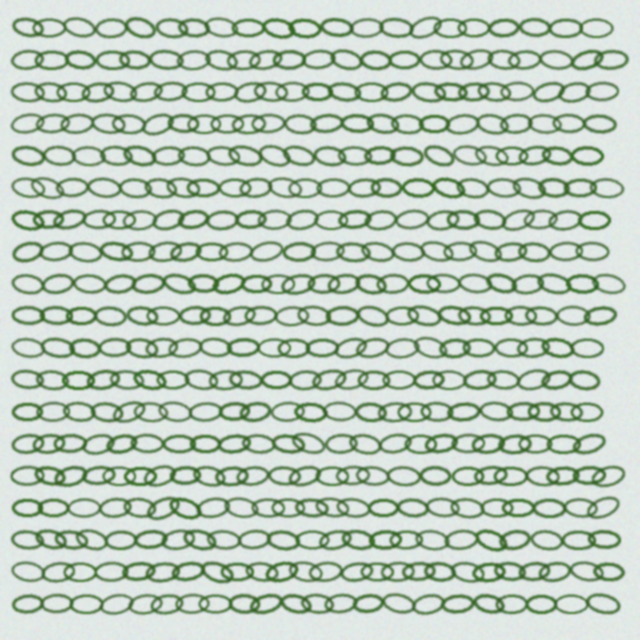chain: (143, 492, 183, 524), (406, 12, 445, 43), (584, 492, 623, 523), (28, 173, 67, 203), (499, 205, 538, 235), (139, 109, 177, 139), (420, 141, 458, 171), (110, 397, 148, 427), (166, 493, 204, 523), (472, 525, 510, 555), (198, 557, 236, 587), (411, 333, 450, 362), (289, 429, 328, 458), (466, 237, 504, 266), (141, 461, 179, 490), (589, 462, 628, 490), (122, 13, 159, 42), (256, 141, 293, 170), (568, 46, 606, 74), (530, 78, 568, 106), (280, 142, 318, 170), (510, 174, 548, 202), (160, 270, 198, 298), (354, 302, 392, 330), (332, 334, 370, 362), (570, 430, 608, 458), (286, 462, 324, 490), (247, 590, 285, 618), (52, 462, 89, 490), (226, 142, 264, 169), (535, 270, 573, 297), (405, 302, 443, 329), (310, 366, 348, 393), (584, 590, 622, 617), (61, 14, 98, 41), (328, 46, 365, 73), (458, 46, 495, 73), (121, 142, 158, 169), (430, 174, 467, 201), (51, 206, 88, 233), (150, 206, 187, 233), (248, 238, 285, 265), (418, 238, 455, 265), (210, 270, 247, 297), (483, 270, 520, 297), (333, 366, 370, 393), (515, 366, 552, 393), (73, 526, 110, 553), (181, 526, 218, 553), (263, 558, 300, 585), (380, 590, 417, 617), (279, 271, 317, 297), (10, 238, 46, 265), (33, 526, 69, 553), (260, 15, 297, 41), (203, 47, 240, 73), (247, 47, 284, 73), (128, 79, 165, 105), (556, 79, 593, 105), (474, 111, 511, 137), (473, 143, 510, 169), (9, 207, 46, 233), (359, 239, 396, 265), (590, 271, 627, 297), (221, 303, 258, 329), (354, 335, 391, 361), (80, 431, 117, 457), (317, 527, 354, 553), (449, 559, 486, 585), (98, 591, 135, 617), (410, 591, 447, 617), (266, 175, 304, 200), (232, 79, 268, 105), (168, 239, 204, 265), (353, 271, 389, 297), (539, 367, 575, 393), (104, 431, 140, 457), (347, 431, 383, 457), (32, 463, 68, 489), (191, 463, 227, 489), (278, 591, 314, 617), (471, 591, 507, 617), (9, 111, 46, 136), (451, 143, 488, 168), (284, 207, 321, 232), (39, 335, 76, 360), (539, 335, 576, 360), (131, 367, 168, 392), (377, 431, 414, 456), (223, 495, 260, 520), (287, 559, 324, 584), (568, 559, 605, 584), (10, 15, 46, 40), (203, 15, 239, 40), (102, 79, 138, 104), (365, 111, 401, 136), (10, 143, 46, 168), (517, 143, 553, 168), (10, 175, 46, 200), (165, 175, 201, 200), (472, 207, 508, 232), (98, 239, 134, 264), (147, 239, 183, 264), (40, 271, 76, 296), (326, 271, 362, 296), (436, 303, 472, 328), (85, 367, 121, 392), (183, 367, 219, 392), (157, 399, 193, 424), (423, 431, 459, 456), (195, 495, 231, 520), (314, 495, 350, 520), (160, 527, 196, 552), (340, 527, 376, 552), (497, 527, 533, 552), (10, 559, 46, 584), (170, 559, 206, 584), (537, 559, 573, 584), (538, 48, 575, 72), (410, 80, 447, 104), (444, 112, 481, 136), (547, 208, 584, 232), (67, 240, 104, 264), (167, 336, 204, 360), (384, 336, 421, 360), (335, 496, 372, 520), (449, 496, 486, 520), (414, 528, 451, 552), (144, 560, 181, 584), (127, 592, 164, 616), (176, 207, 211, 232), (238, 399, 273, 424), (154, 16, 190, 40), (80, 80, 116, 104), (326, 80, 362, 104), (476, 80, 512, 104), (205, 144, 241, 168), (312, 144, 348, 168), (425, 208, 461, 232), (493, 240, 529, 264), (10, 272, 46, 296), (582, 304, 618, 328), (10, 336, 46, 360), (124, 336, 160, 360), (89, 400, 125, 424), (216, 432, 252, 456), (270, 432, 306, 456), (235, 464, 271, 488), (53, 528, 89, 552), (265, 528, 301, 552), (529, 528, 565, 552), (40, 560, 76, 584), (244, 560, 280, 584), (339, 560, 375, 584), (149, 592, 185, 616), (90, 112, 127, 135), (86, 176, 123, 199), (443, 528, 480, 551), (63, 48, 98, 72), (33, 80, 68, 104), (379, 80, 414, 104), (540, 144, 575, 168), (143, 176, 178, 200), (455, 176, 490, 200), (363, 208, 398, 232), (103, 272, 138, 296), (510, 272, 545, 296), (125, 304, 160, 328), (567, 368, 602, 392), (378, 16, 414, 39), (148, 48, 184, 71), (486, 48, 522, 71), (253, 80, 289, 103), (35, 112, 71, 135), (59, 112, 95, 135), (238, 176, 274, 199), (394, 208, 430, 231), (38, 240, 74, 263), (130, 272, 166, 295), (457, 272, 493, 295), (296, 304, 332, 327), (478, 400, 514, 423), (10, 432, 46, 455), (31, 432, 67, 455), (470, 432, 506, 455), (323, 592, 359, 615), (319, 16, 354, 39), (10, 48, 45, 71), (301, 48, 336, 71), (439, 48, 474, 71), (153, 80, 188, 103), (309, 112, 344, 135), (42, 144, 77, 167), (337, 208, 372, 231), (523, 208, 558, 231), (310, 240, 345, 263), (144, 336, 179, 359), (198, 336, 233, 359), (516, 336, 551, 359), (10, 368, 45, 391), (462, 368, 497, 391), (81, 464, 116, 487), (473, 464, 508, 487), (122, 496, 157, 519), (425, 496, 460, 519), (133, 528, 168, 551), (237, 528, 272, 551), (121, 560, 156, 583), (308, 560, 343, 583), (517, 560, 552, 583), (300, 592, 335, 615), (351, 592, 386, 615), (111, 113, 147, 135), (231, 113, 267, 135), (337, 145, 373, 167), (486, 177, 522, 199), (589, 177, 625, 199), (122, 209, 158, 231), (218, 241, 254, 263), (335, 241, 371, 263), (274, 305, 310, 327), (109, 369, 145, 391), (133, 401, 169, 423), (377, 401, 413, 423), (386, 465, 422, 487), (206, 529, 242, 551), (499, 112, 533, 135), (99, 144, 133, 167), (537, 176, 571, 199), (62, 400, 96, 423), (98, 496, 132, 519), (423, 560, 457, 583), (493, 560, 527, 583), (287, 17, 322, 39), (349, 17, 384, 39), (176, 49, 211, 71), (226, 49, 261, 71), (507, 49, 542, 71), (10, 81, 45, 103), (433, 81, 468, 103), (390, 113, 425, 135), (527, 113, 562, 135), (582, 113, 617, 135), (71, 145, 106, 167), (151, 145, 186, 167), (389, 145, 424, 167), (118, 177, 153, 199), (347, 177, 382, 199), (205, 209, 240, 231), (391, 241, 426, 263), (517, 241, 552, 263), (72, 273, 107, 295), (93, 305, 128, 327), (457, 305, 492, 327), (524, 305, 559, 327), (35, 369, 70, 391), (208, 369, 243, 391), (228, 369, 263, 391), (486, 369, 521, 391), (188, 401, 223, 423), (293, 401, 328, 423), (446, 401, 481, 423), (549, 401, 584, 423), (241, 433, 276, 455), (497, 433, 532, 455), (214, 465, 249, 487), (267, 465, 302, 487), (355, 465, 390, 487), (525, 465, 560, 487), (545, 465, 580, 487), (294, 497, 329, 519), (563, 497, 598, 519), (10, 529, 45, 551), (471, 561, 506, 583), (440, 593, 475, 615), (593, 49, 629, 70), (335, 465, 371, 486), (94, 17, 128, 39), (177, 17, 211, 39), (487, 17, 521, 39), (118, 49, 152, 71), (359, 49, 393, 71), (457, 81, 491, 103), (283, 113, 317, 135), (177, 145, 211, 167), (68, 337, 102, 359), (438, 337, 472, 359), (288, 369, 322, 391), (412, 369, 446, 391), (354, 401, 388, 423), (396, 497, 430, 519), (592, 561, 626, 583), (11, 593, 45, 615), (275, 81, 310, 102), (251, 113, 286, 134), (55, 177, 90, 198), (257, 209, 292, 230), (121, 241, 156, 262), (575, 241, 610, 262), (426, 273, 461, 294), (556, 305, 591, 326), (270, 401, 305, 422), (322, 401, 357, 422), (10, 465, 45, 486), (94, 561, 129, 582), (380, 561, 415, 582), (401, 561, 436, 582), (175, 593, 210, 614), (518, 17, 552, 38), (272, 49, 306, 70), (419, 49, 453, 70), (500, 81, 534, 102), (585, 81, 619, 102), (340, 113, 374, 134), (552, 113, 586, 134), (363, 145, 397, 166), (570, 145, 604, 166), (401, 177, 435, 198), (82, 209, 116, 230), (234, 209, 268, 230), (446, 209, 480, 230), (282, 241, 316, 262), (443, 241, 477, 262), (549, 241, 583, 262), (307, 273, 341, 294), (376, 273, 410, 294), (407, 273, 441, 294), (565, 273, 599, 294), (11, 305, 45, 326), (39, 305, 73, 326), (178, 305, 212, 326), (244, 305, 278, 326), (325, 305, 359, 326), (98, 337, 132, 358), (226, 337, 260, 358), (36, 401, 70, 422), (420, 401, 454, 422), (506, 401, 540, 422), (527, 401, 561, 422), (53, 433, 87, 454), (130, 433, 164, 454), (324, 433, 358, 454), (451, 433, 485, 454), (572, 465, 606, 486), (368, 529, 402, 550), (587, 529, 621, 550), (40, 593, 74, 614), (548, 18, 583, 38), (579, 18, 614, 38), (34, 50, 69, 70), (95, 50, 130, 70), (56, 82, 91, 102), (181, 82, 216, 102), (354, 82, 389, 102), (432, 370, 467, 390), (397, 402, 432, 422), (518, 434, 553, 454), (546, 434, 581, 454), (493, 466, 528, 486), (295, 530, 330, 550), (561, 530, 596, 550), (69, 594, 104, 614), (198, 594, 233, 614), (554, 594, 589, 614), (167, 113, 200, 134), (370, 177, 403, 198), (32, 209, 65, 230), (187, 273, 220, 294), (504, 305, 537, 326), (218, 401, 251, 422), (169, 465, 202, 486), (419, 465, 452, 486), (228, 593, 261, 614), (32, 18, 66, 38), (231, 18, 265, 38), (433, 18, 467, 38), (457, 18, 491, 38), (205, 82, 239, 102), (187, 114, 221, 134), (210, 114, 244, 134), (495, 146, 529, 166), (186, 178, 220, 198), (218, 178, 252, 198), (288, 178, 322, 198), (316, 178, 350, 198), (563, 178, 597, 198), (102, 210, 136, 230), (314, 210, 348, 230), (577, 210, 611, 230), (195, 242, 229, 262), (261, 274, 295, 294), (146, 306, 180, 326), (385, 306, 419, 326), (479, 306, 513, 326), (257, 338, 291, 358), (277, 338, 311, 358), (305, 338, 339, 358), (462, 338, 496, 358), (494, 338, 528, 358), (570, 338, 604, 358), (61, 370, 95, 390), (156, 370, 190, 390), (357, 370, 391, 390), (382, 370, 416, 390), (570, 402, 604, 422), (162, 434, 196, 454), (102, 466, 136, 486), (123, 466, 157, 486), (315, 466, 349, 486), (451, 466, 485, 486), (67, 498, 101, 518), (251, 498, 285, 518), (271, 498, 305, 518), (480, 498, 514, 518), (501, 498, 535, 518), (532, 498, 566, 518), (104, 530, 138, 550), (389, 530, 423, 550), (63, 562, 97, 582), (220, 562, 254, 582), (360, 562, 394, 582), (388, 50, 421, 70), (301, 82, 334, 102), (418, 114, 451, 134), (240, 274, 273, 294), (65, 306, 98, 326), (199, 306, 232, 326), (260, 370, 293, 390), (11, 402, 44, 422), (189, 434, 222, 454), (404, 434, 437, 454), (11, 498, 44, 518), (37, 498, 70, 518), (367, 498, 400, 518), (495, 594, 528, 614), (525, 594, 558, 614)
